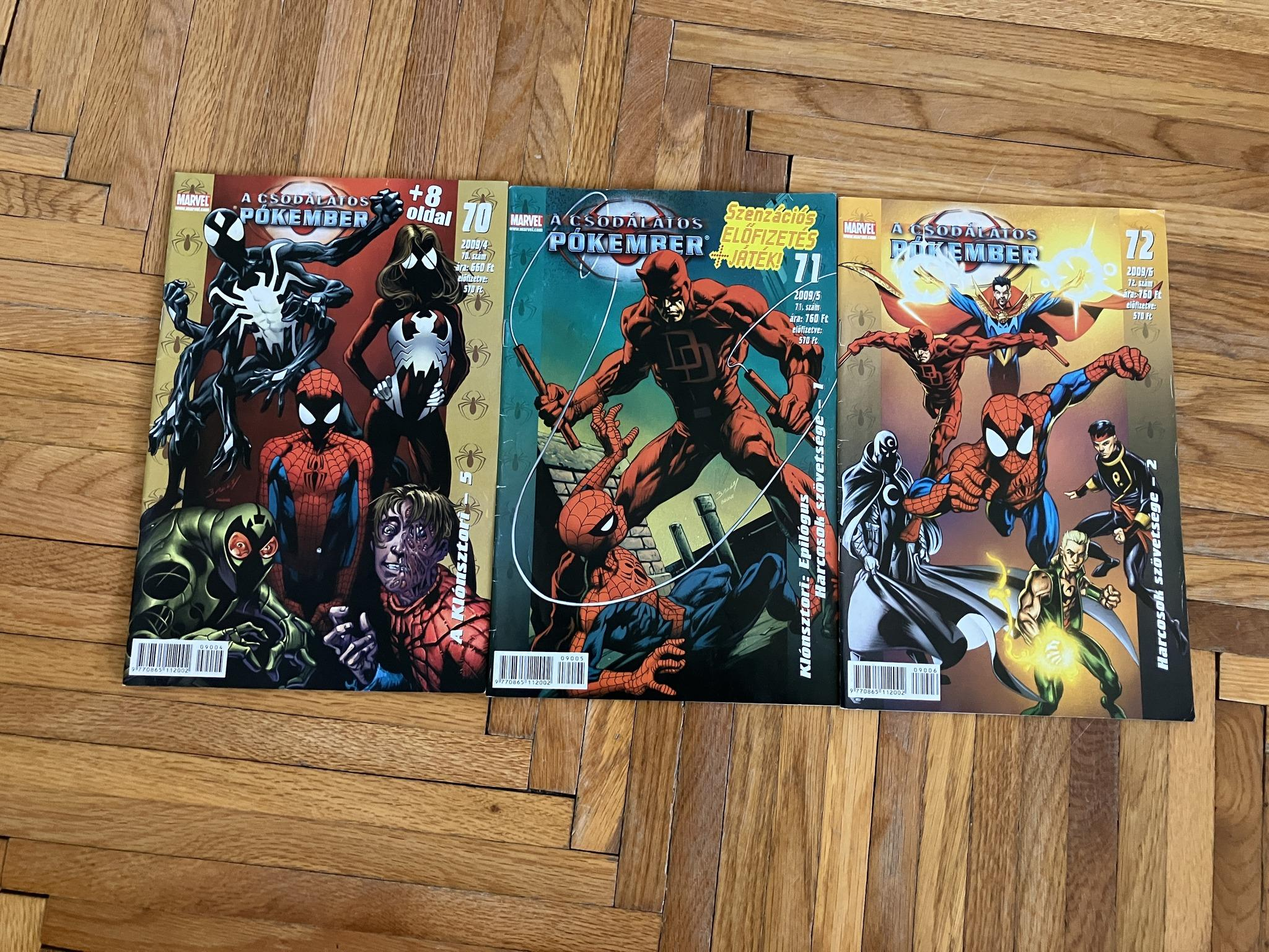comic: (125, 168, 508, 697), (490, 186, 851, 703), (837, 198, 1194, 719)
